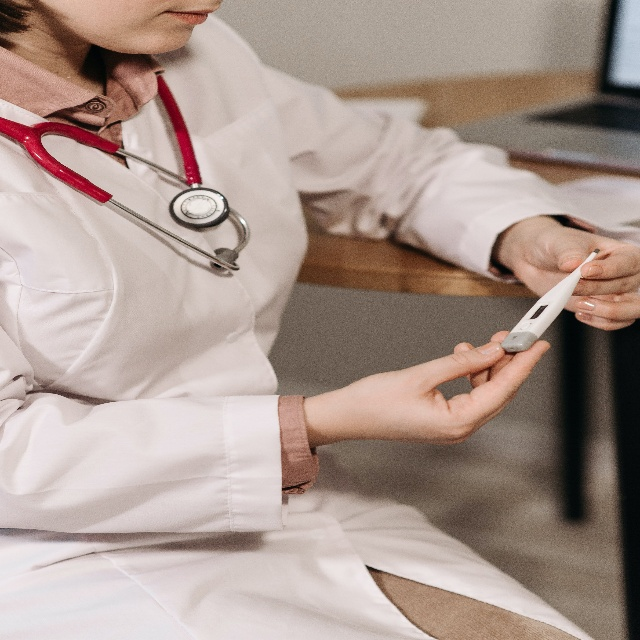Sin_guantes: (337, 329, 549, 445), (519, 227, 640, 336)
